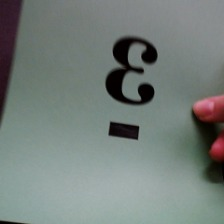green3: (96, 31, 166, 144)
